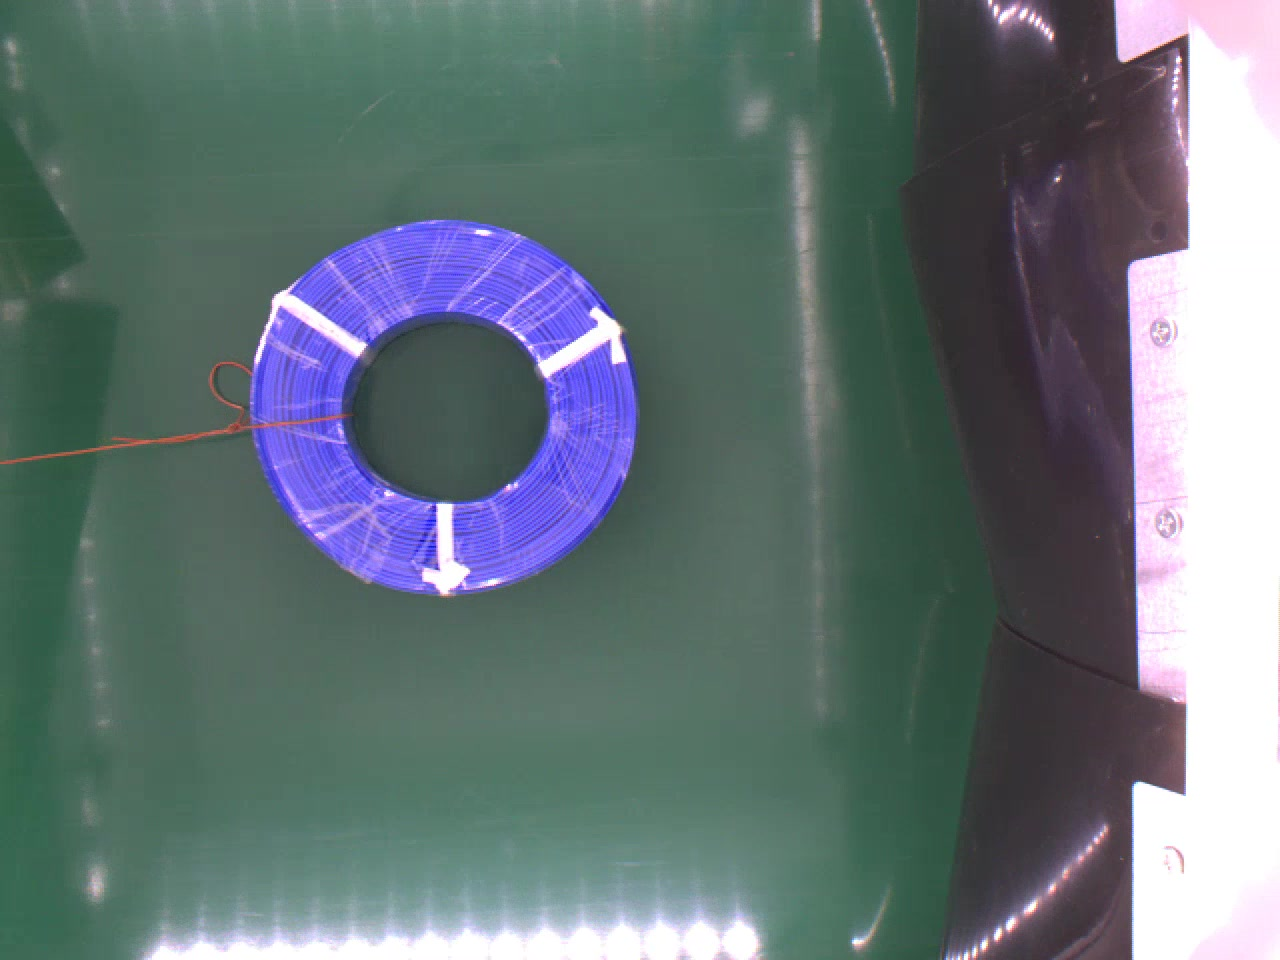blue: (254, 212, 646, 589)
